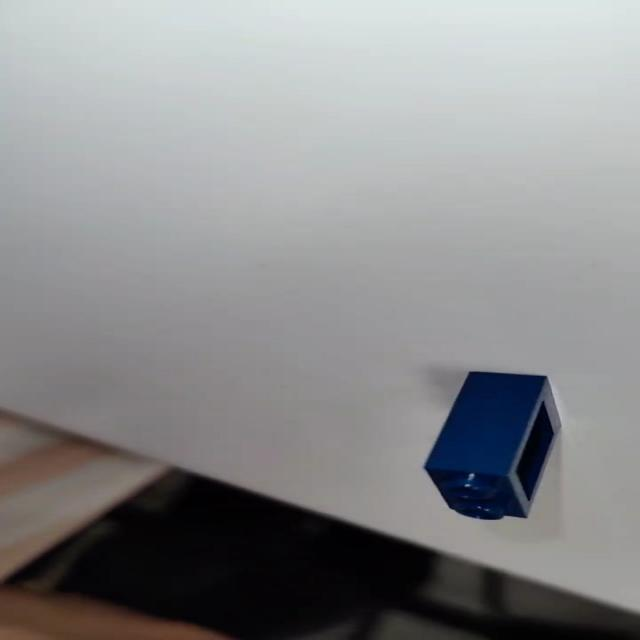W2x1x2: (414, 366, 565, 523)
